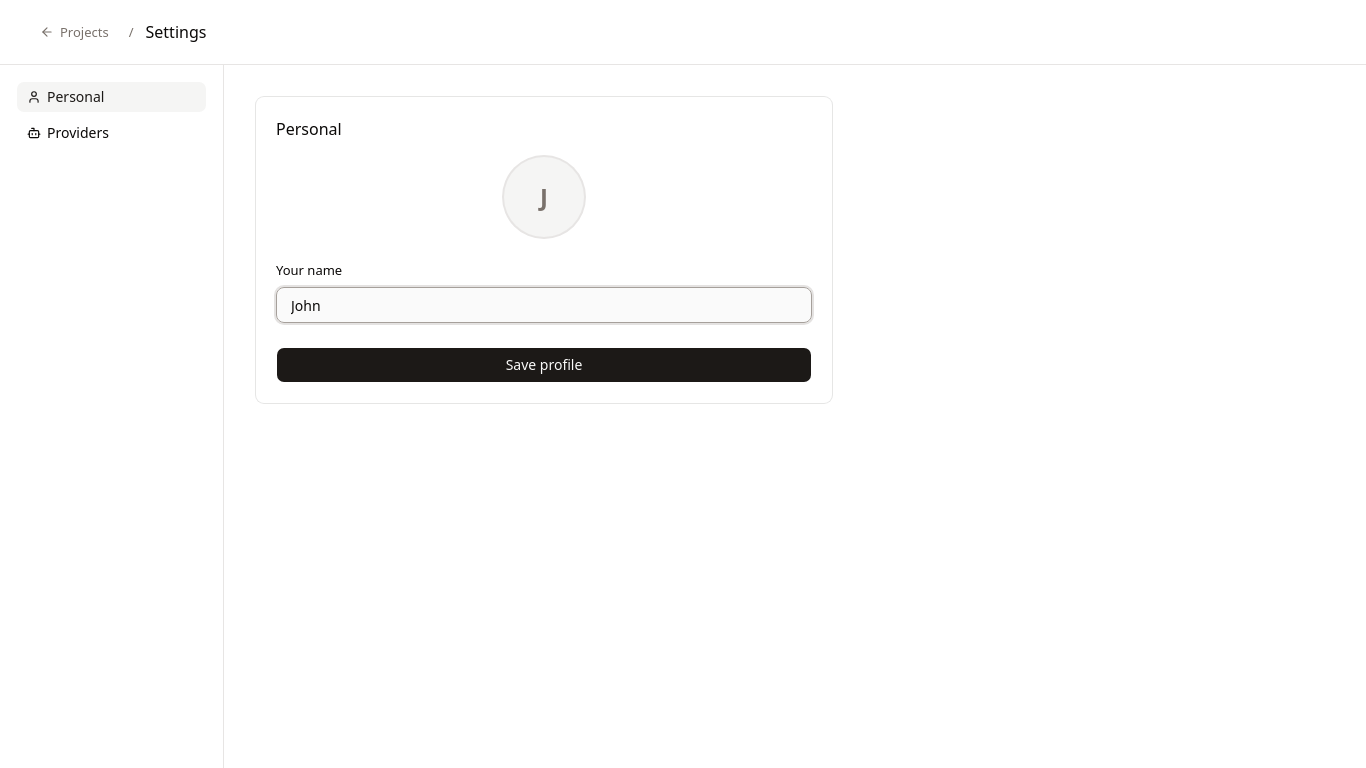
Test case: SettingsPage › renders Personal by default and switches to Providers
Expected: the heading "Settings" is shown, 146,20 -> 206,44
Expected: the button "Personal" is shown, 16,81 -> 207,113
Click the button "Providers" at (112, 133), box 16,117 -> 207,149
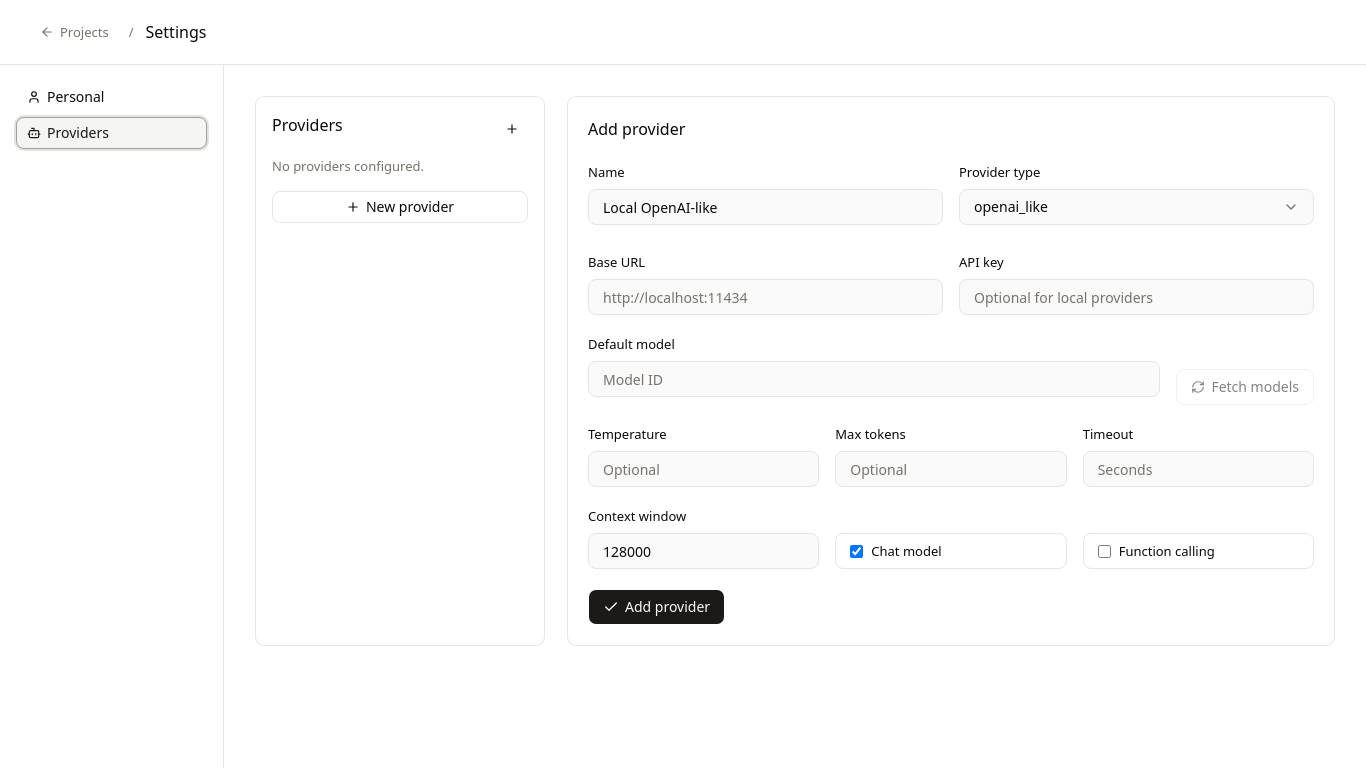
Expected: the field with placeholder "Local Ollama" is shown, 588,189 -> 943,225
Expected: the button "New provider" is shown, 272,191 -> 528,223
